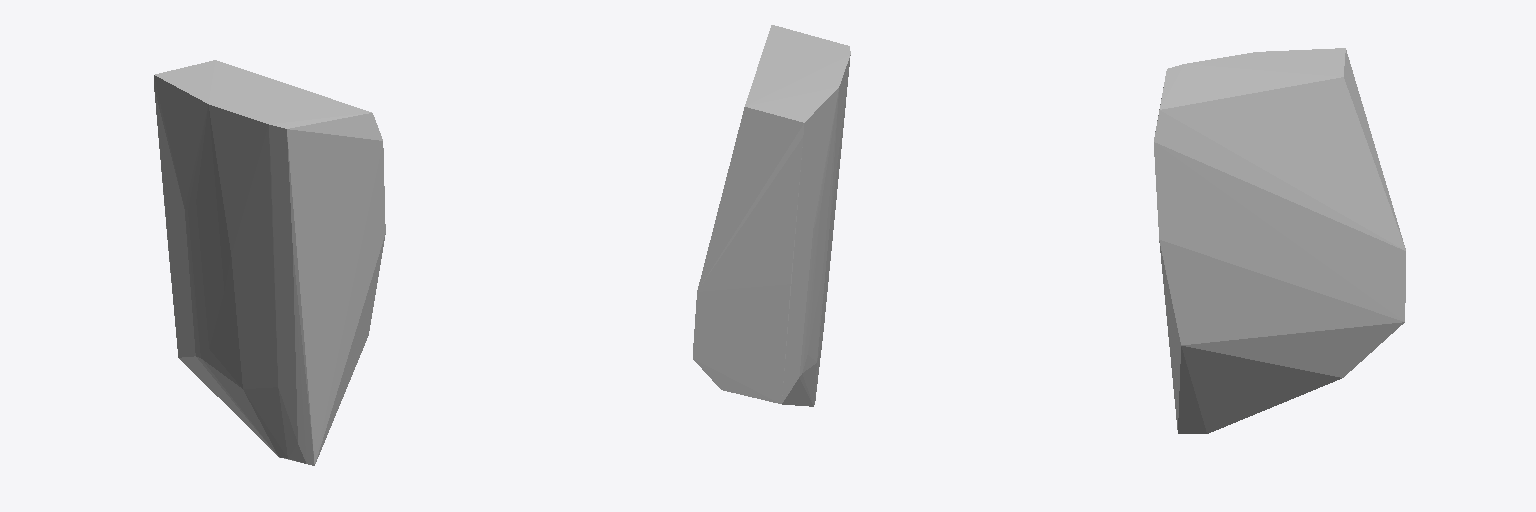
Rendered from trash_bin_collision_5.obj.
3 views of the same model, side by side, from view 1: azimuth 30°, elevation 25°; view 2: azimuth 150°, elevation 25°; view 3: azimuth 270°, elevation 25° (orthographic).
Bounding box in the file's own units: 0.0375 × 0.0904 × 0.0591.